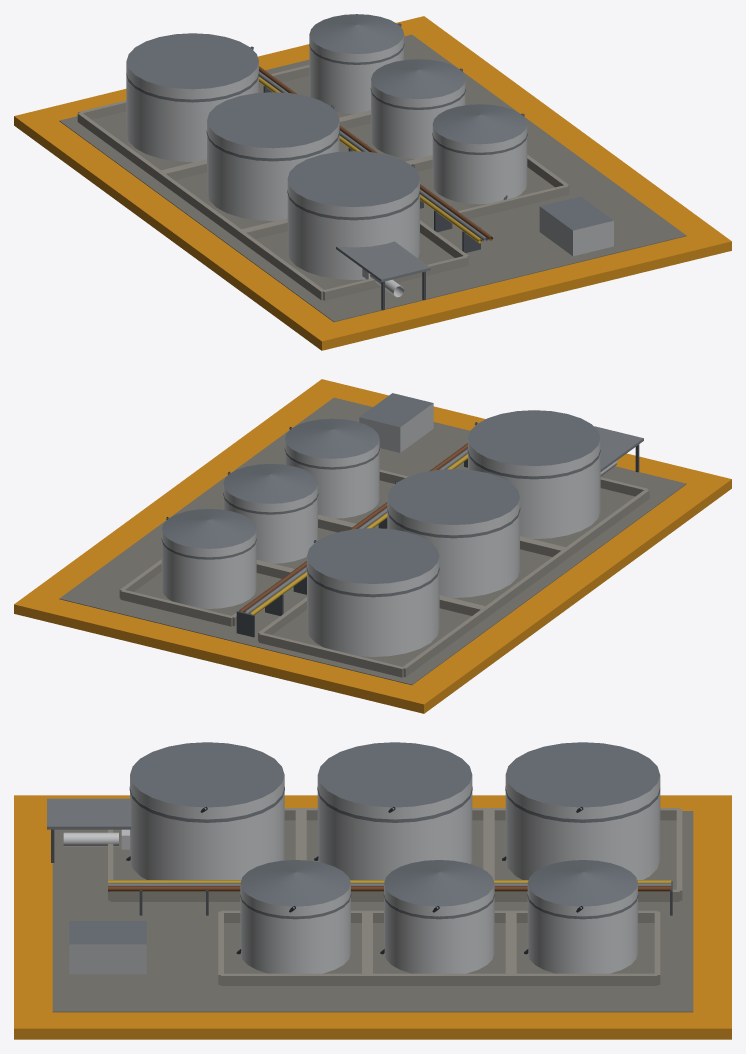
Rendered from fuel_depot_amber.glb.
3 views of the same model, one above another, from view 1: azimuth 30°, elevation 25°; view 2: azimuth 150°, elevation 25°; view 3: azimuth 270°, elevation 25° (orthographic). The views are drawn at different scales.
Visible parts, largest first — view 1: fuel_depot_amber; view 2: fuel_depot_amber; view 3: fuel_depot_amber.
Part boxes in pixels (x1,y1,x2,y2): fuel_depot_amber: (14, 14, 731, 350); fuel_depot_amber: (14, 379, 731, 713); fuel_depot_amber: (14, 742, 731, 1039).
Bounding box in the file's own units: 100 × 19.58 × 130.
